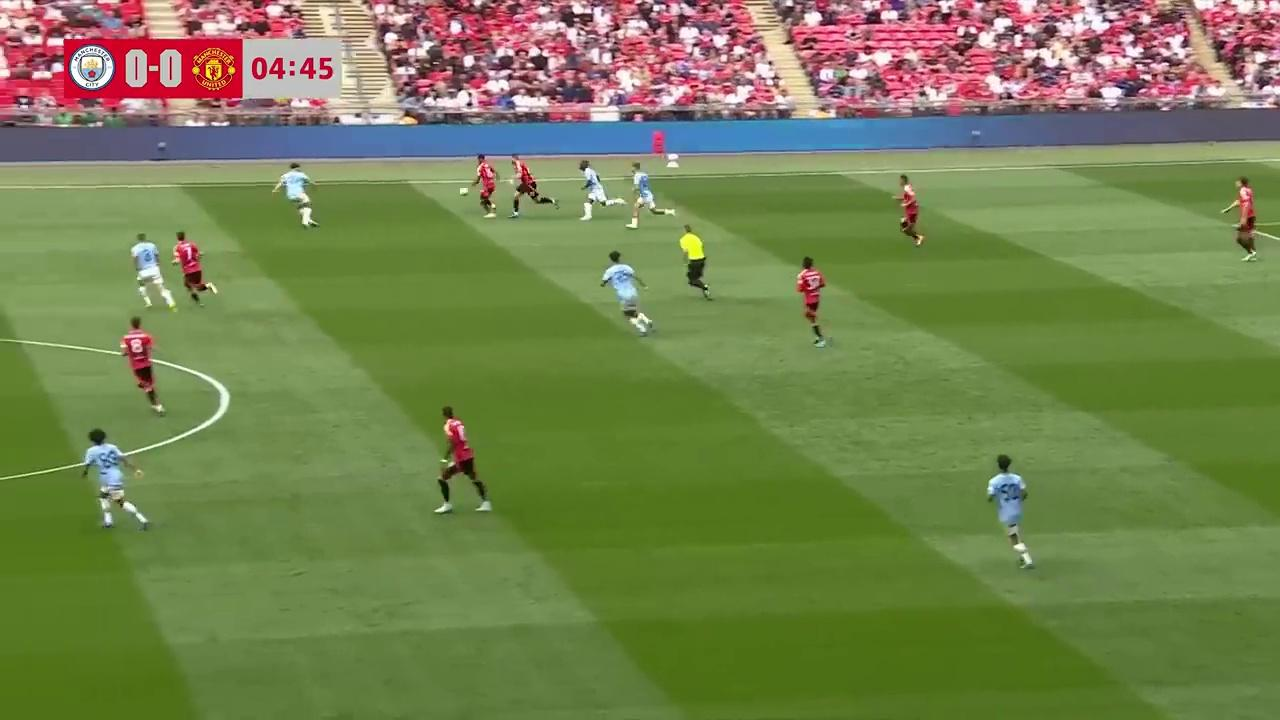ball: (102, 509, 113, 529), (456, 182, 469, 198)
player: (81, 427, 150, 531), (435, 405, 491, 514), (986, 456, 1034, 570), (119, 315, 166, 415), (600, 250, 654, 335), (129, 232, 175, 310), (171, 231, 218, 306), (271, 162, 319, 228), (1223, 177, 1259, 261), (796, 256, 829, 347), (510, 157, 558, 218), (460, 154, 498, 219), (625, 162, 661, 229), (894, 175, 923, 247), (578, 161, 612, 220)
referee: (679, 224, 711, 300)
